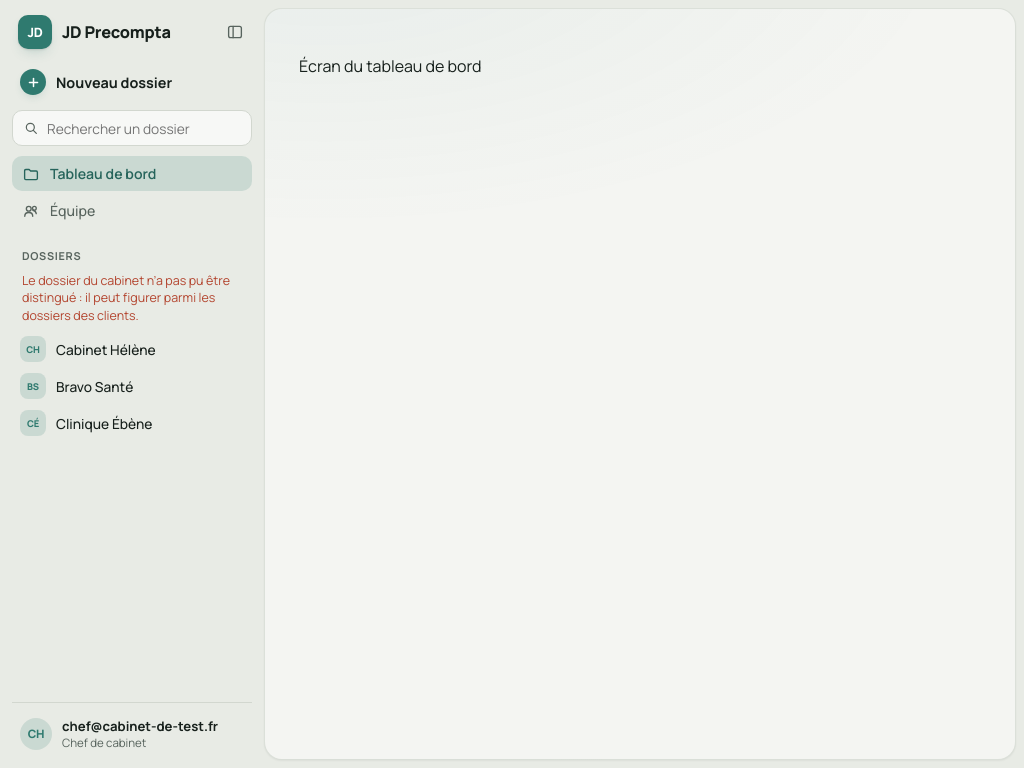
it: Barre latérale — le menu du compte › porte l’apparence du cabinet, qui a quitté la navigation
Expected: the link "Apparence" is not shown
Click the button with aria-label "Compte de chef@cabinet-de-test.fr": coordinates (132, 734) [12,711,252,756]
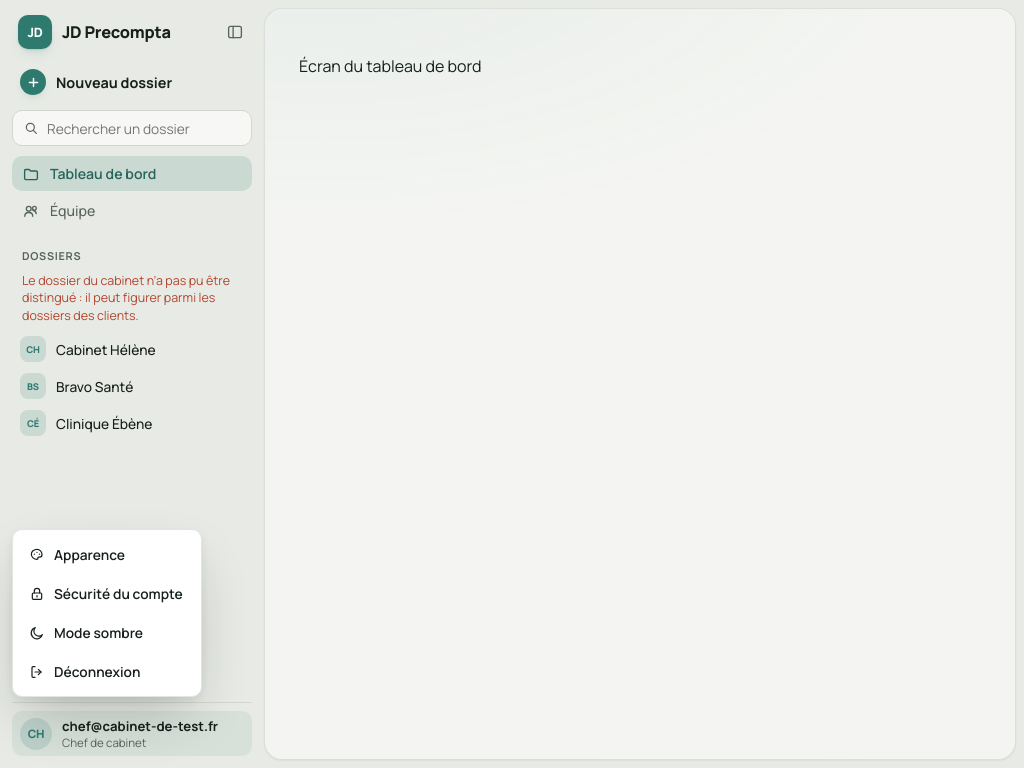
Expected: the button "Mode sombre" is shown, [19,614,195,651]
Expected: the button "Déconnexion" is shown, [19,653,195,690]
